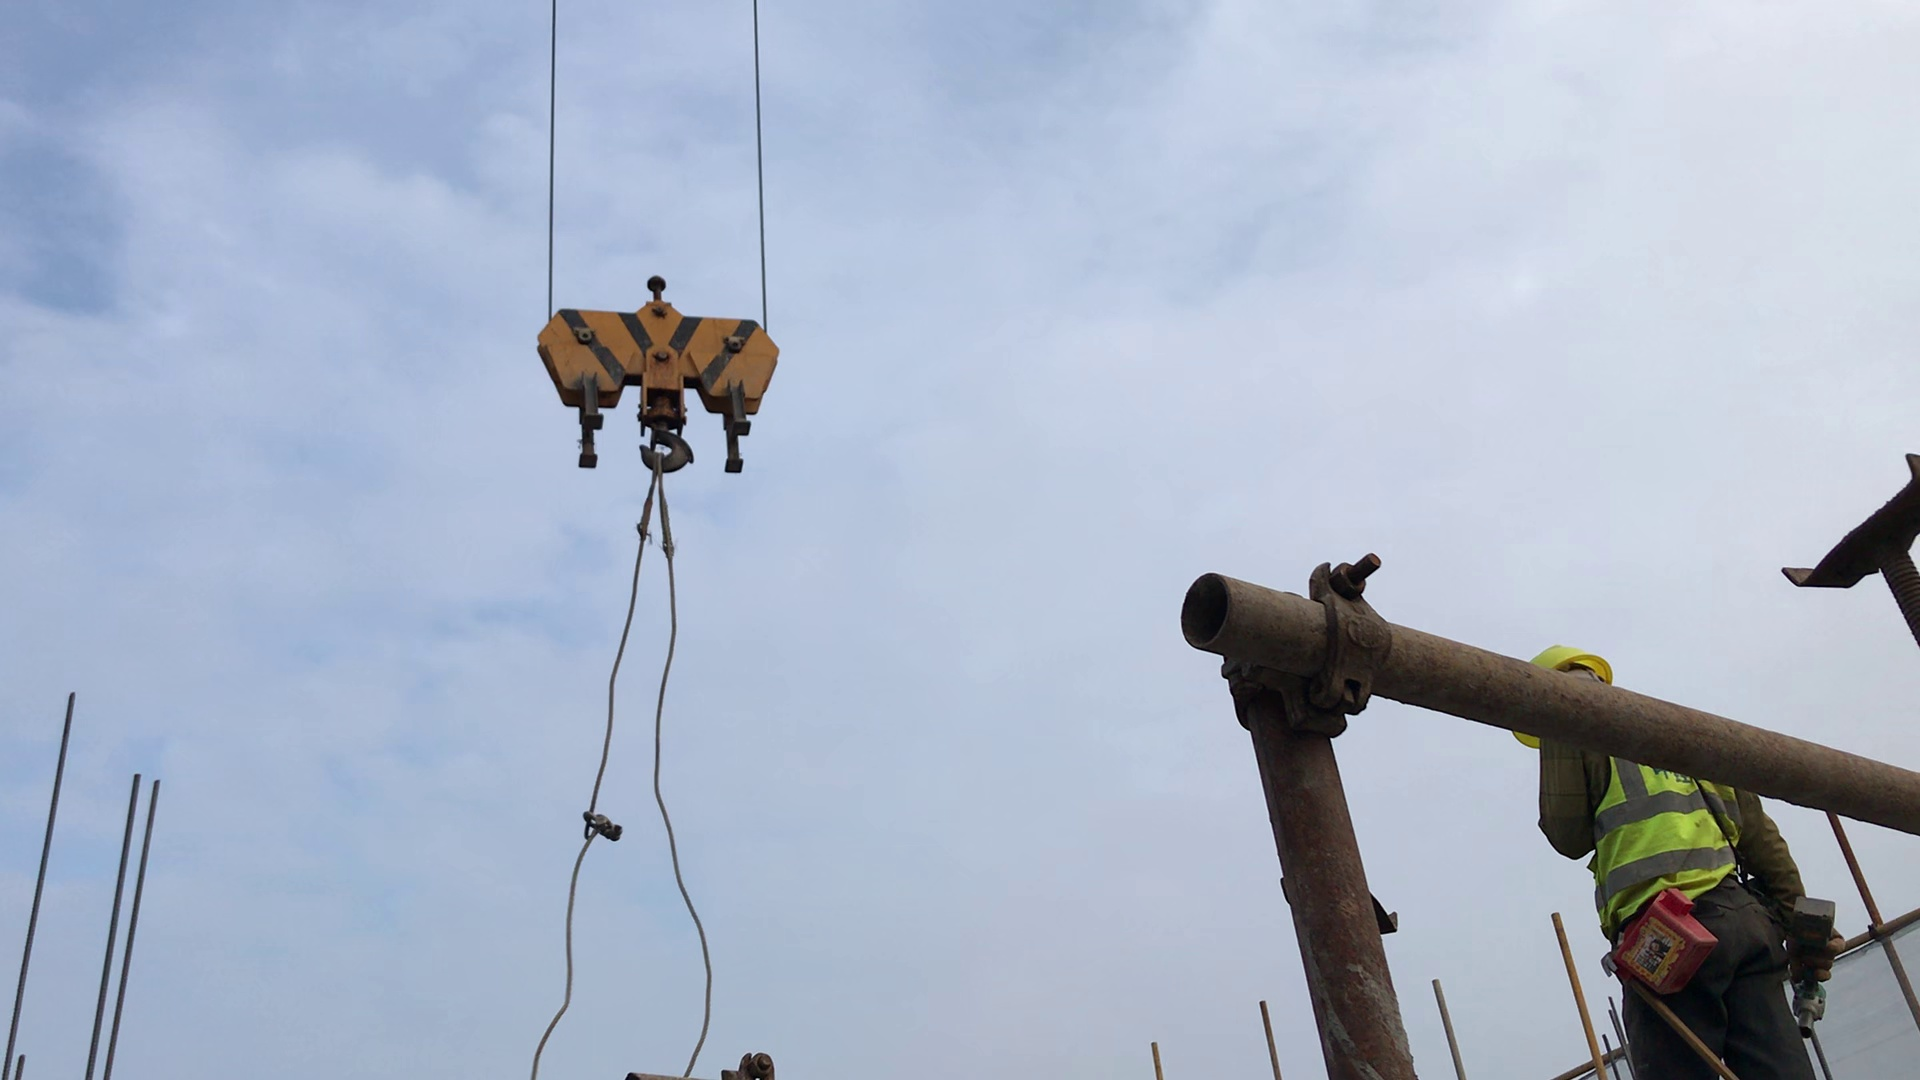hook: (535, 280, 781, 480)
person: (1498, 644, 1840, 1080)
vest: (1583, 743, 1748, 911)
